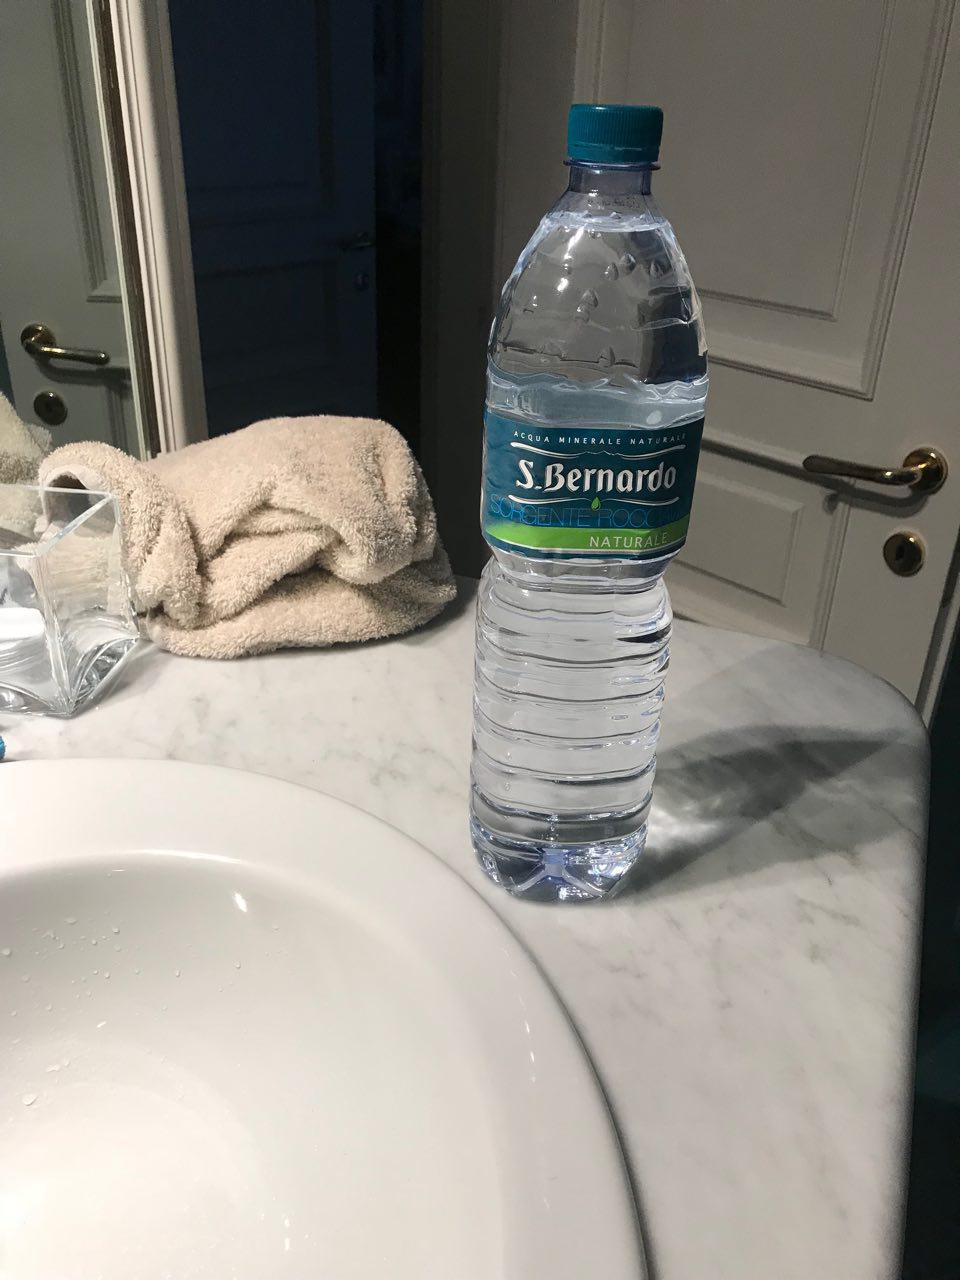san_bernardo: (467, 106, 710, 904)
